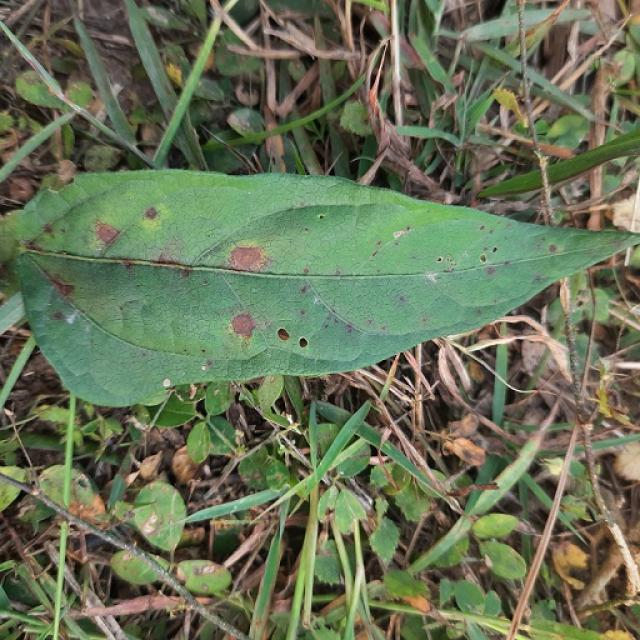Anthracnose: (227, 310, 267, 351), (232, 236, 268, 277), (117, 298, 150, 333), (44, 271, 76, 300), (138, 206, 167, 232), (94, 222, 121, 246), (155, 257, 186, 273), (433, 254, 457, 272), (42, 222, 54, 235), (52, 310, 65, 320), (298, 337, 309, 348), (485, 266, 497, 276), (548, 244, 558, 253), (300, 284, 308, 293), (398, 295, 407, 303), (205, 359, 213, 367), (302, 267, 310, 274)
Blackgram: (12, 169, 639, 410)
